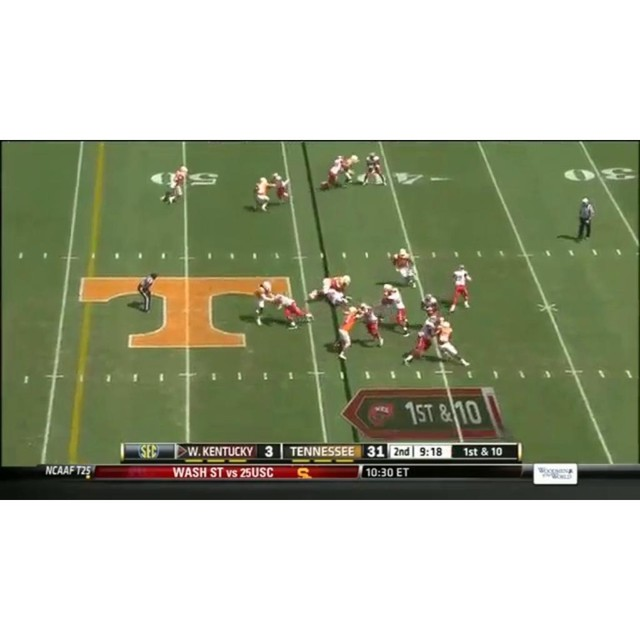american-football-player: (324, 305, 365, 361), (401, 316, 437, 366), (436, 319, 470, 367), (380, 284, 411, 336), (277, 294, 314, 330), (308, 274, 352, 304), (389, 247, 418, 288), (449, 263, 472, 312), (359, 304, 385, 347), (253, 280, 277, 326), (161, 165, 189, 204), (319, 156, 346, 191), (361, 153, 386, 186), (252, 176, 272, 213), (271, 172, 291, 205), (420, 294, 442, 321), (341, 154, 359, 185)
referee: (575, 197, 596, 243), (137, 271, 158, 313)
